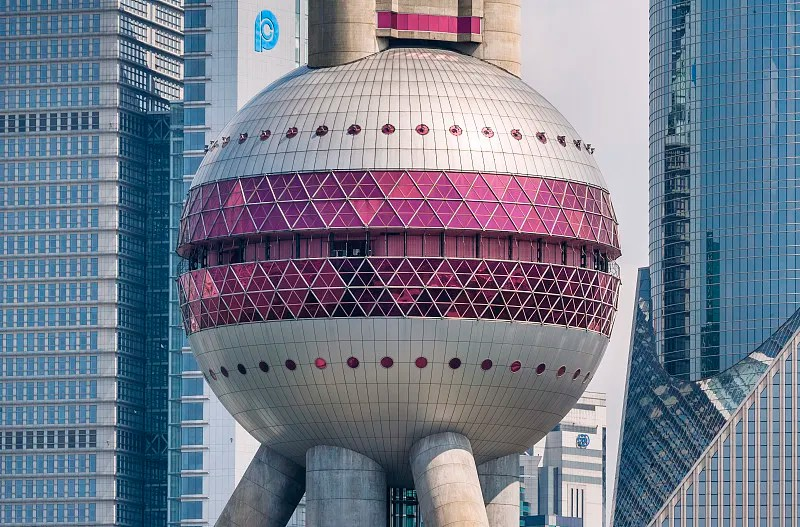Oriental: (178, 2, 620, 527)
